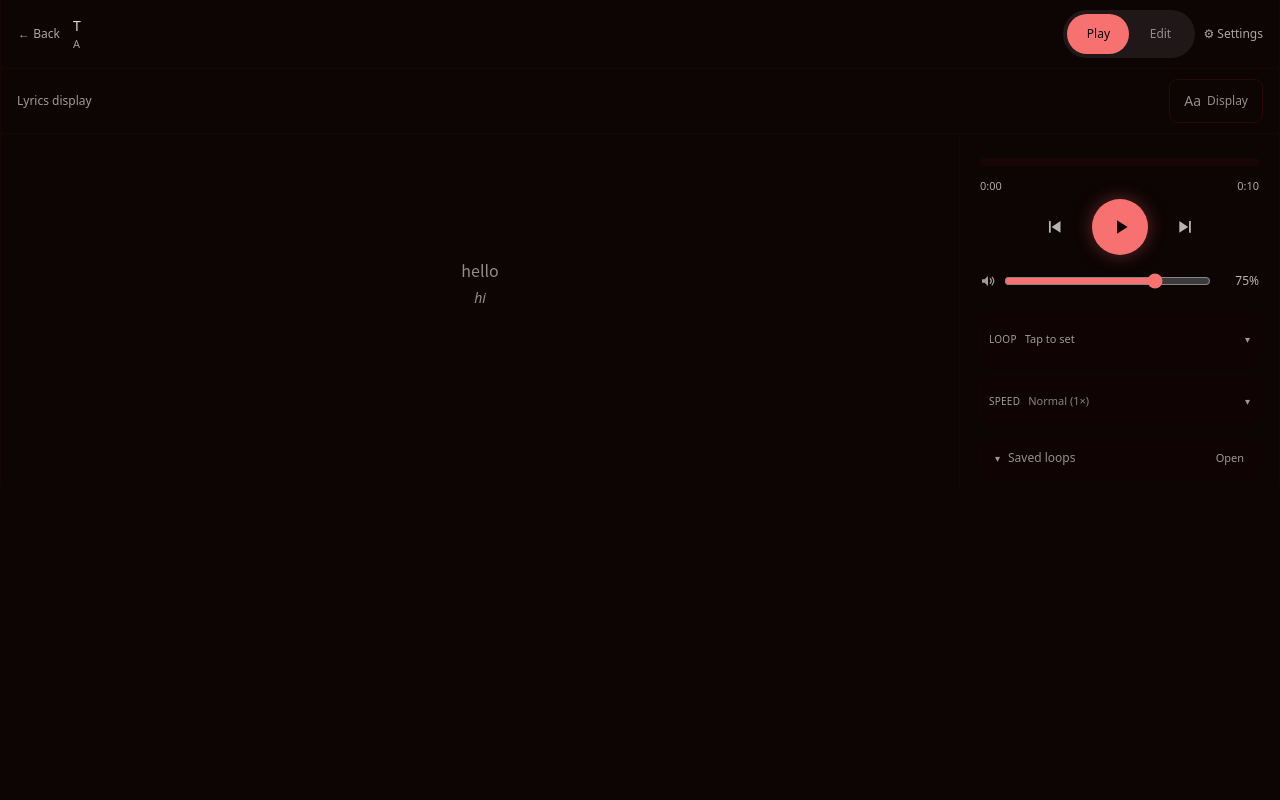
PlayerView A/B loop › shows A-B loop controls in play mode
Expected: the text "hello" is shown, left=461, top=258, right=499, bottom=282
Click the button "Loop Tap to set ▾" at coordinates (1050, 339), box left=989, top=322, right=1250, bottom=358
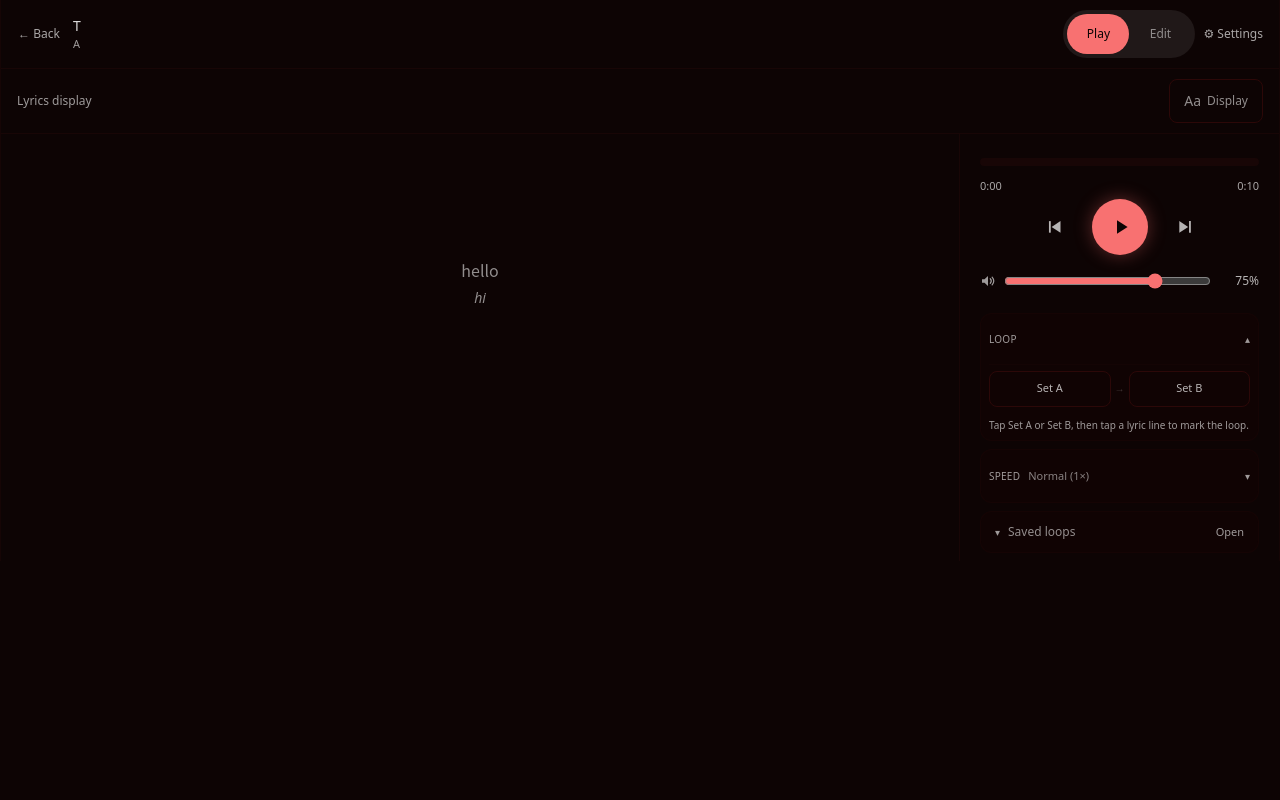
Expected: the element named "A-B Loop" is shown, left=980, top=312, right=1259, bottom=441
Result: the button with aria-label "a loop point" is shown at left=989, top=370, right=1110, bottom=406
Result: the button with aria-label "b loop point" is shown at left=1128, top=370, right=1250, bottom=406
